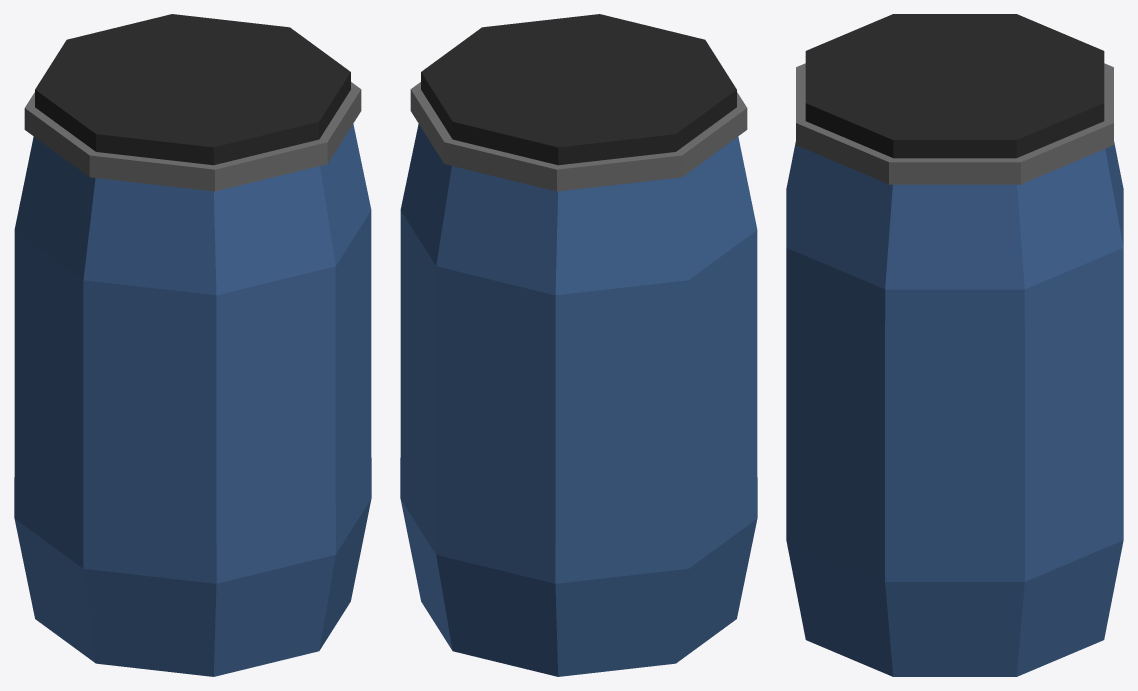
File: Barrel_01.fbx
The picture shows the model from 3 angles, left to right: view 1: azimuth 30°, elevation 25°; view 2: azimuth 150°, elevation 25°; view 3: azimuth 270°, elevation 25°; orthographic projection.
Visible parts, largest first — view 1: Barrel_01; view 2: Barrel_01; view 3: Barrel_01.
Boxes of the visible parts, x1,y1,x2,y2 form: Barrel_01: (14,14,371,676); Barrel_01: (400,14,757,676); Barrel_01: (786,14,1123,676).
Size of the model in its own units: 48.56 by 85.28 by 48.56.
